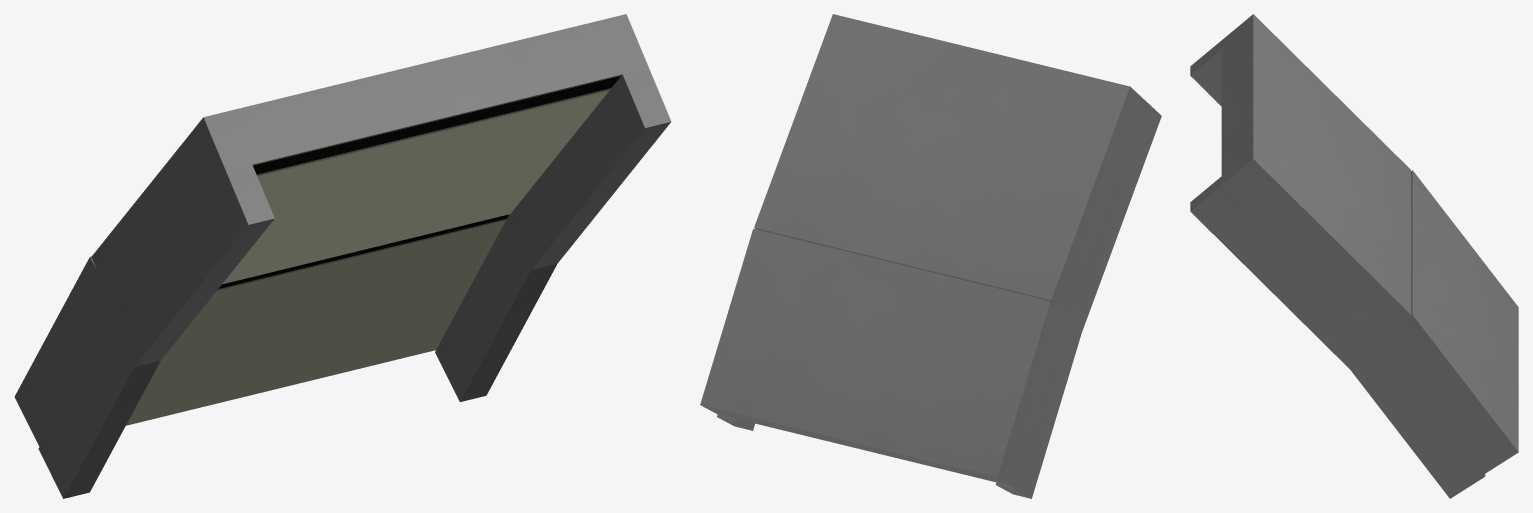
Rendered from dc_metro_arch_c7.obj.
3 renders of one model, left to right at view 1: azimuth 30°, elevation 25°; view 2: azimuth 150°, elevation 25°; view 3: azimuth 270°, elevation 25°, orthographic. The views are drawn at different scales.
Parts seen in each view (by area): view 1: part7b, part7; view 2: part7b, part7; view 3: part7b, part7.
Part boxes in pixels (x1,y1,x2,y2): part7b: [91, 14, 671, 367]; part7: [14, 214, 557, 498]; part7b: [754, 14, 1161, 330]; part7: [700, 228, 1086, 498]; part7b: [1190, 14, 1410, 370]; part7: [1340, 170, 1518, 498].
Size of the model in its own units: 2 by 2.19 by 1.92.
Materials: 2 (2 with a texture image).
